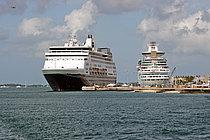Ship: (39, 31, 121, 95), (134, 40, 175, 94)
